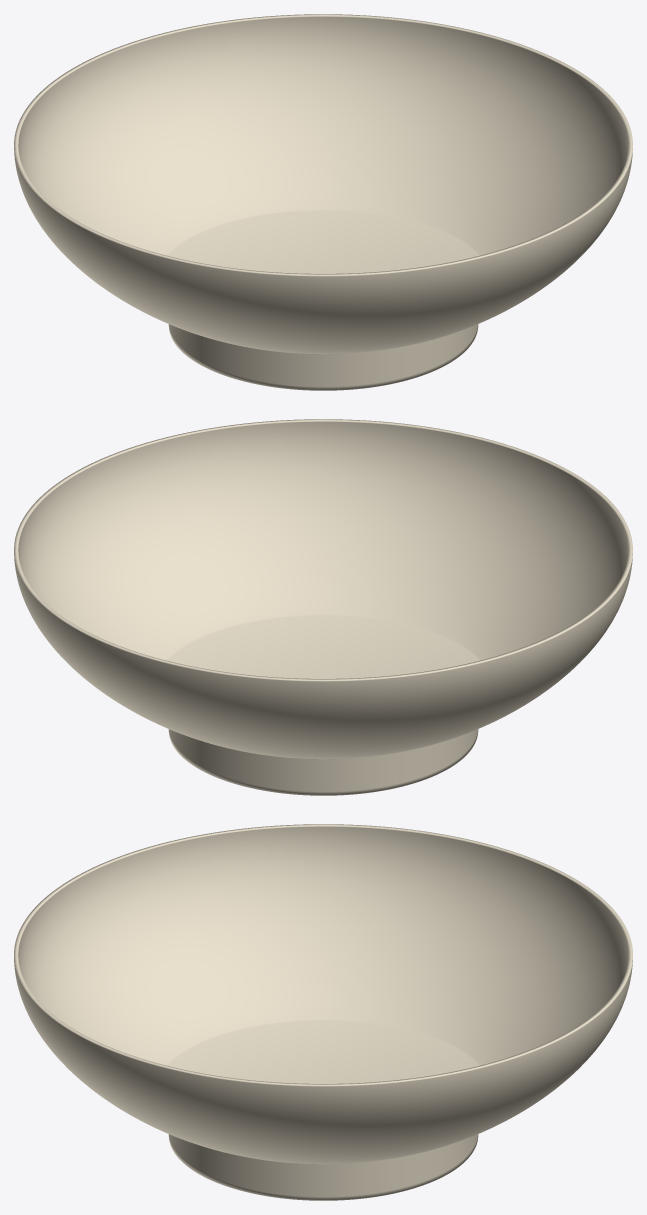
The picture shows the model from 3 angles, top to bottom: view 1: azimuth 30°, elevation 25°; view 2: azimuth 150°, elevation 25°; view 3: azimuth 270°, elevation 25°; orthographic projection.
Visible parts, largest first — view 1: MoonJarConcept; view 2: MoonJarConcept; view 3: MoonJarConcept.
Part boxes in pixels (bbox=[...]): MoonJarConcept: bbox=[14, 14, 632, 390]; MoonJarConcept: bbox=[14, 419, 632, 795]; MoonJarConcept: bbox=[14, 824, 632, 1200].
Size of the model in its own units: 0.14 by 0.045 by 0.14.
